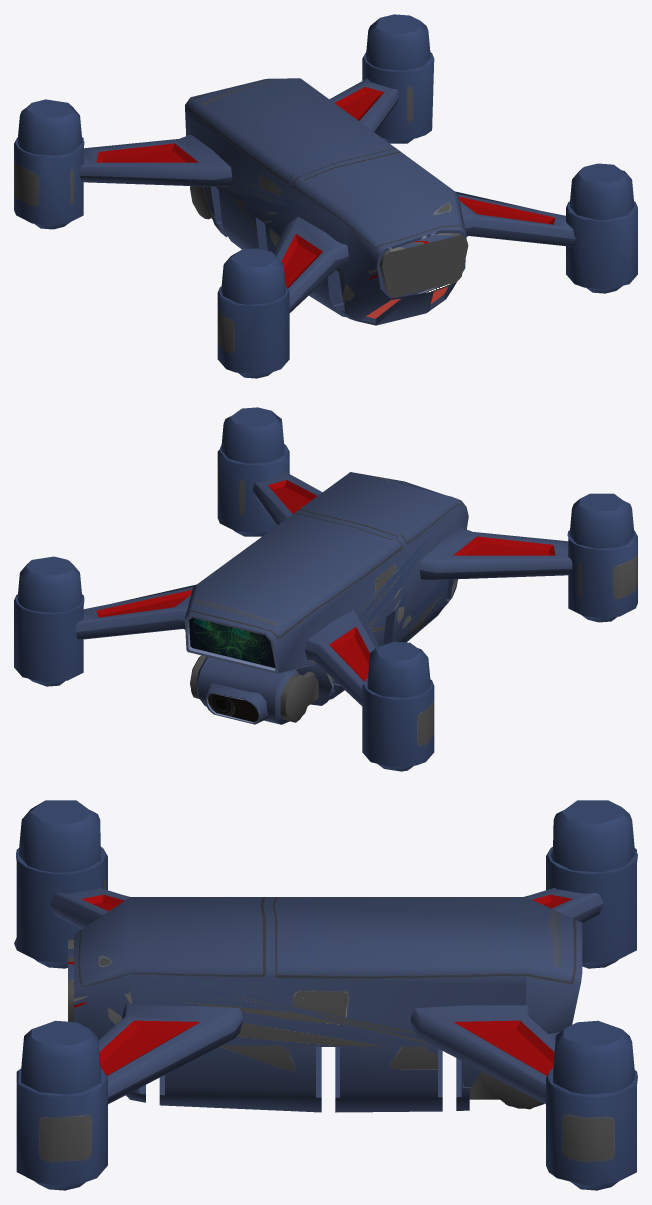
The model's file is drone_lod_03.glb.
The picture shows the model from 3 angles, top to bottom: view 1: azimuth 30°, elevation 25°; view 2: azimuth 150°, elevation 25°; view 3: azimuth 270°, elevation 25°; orthographic projection. The views are drawn at different scales.
Parts seen in each view (by area): view 1: drone_lod_03; view 2: drone_lod_03; view 3: drone_lod_03.
Part boxes in pixels (bbox=[...]): drone_lod_03: bbox=[14, 14, 637, 378]; drone_lod_03: bbox=[14, 407, 637, 771]; drone_lod_03: bbox=[14, 800, 637, 1190].
Size of the model in its own units: 1.1 by 0.3318 by 1.11.
1 material, 1 textured.
